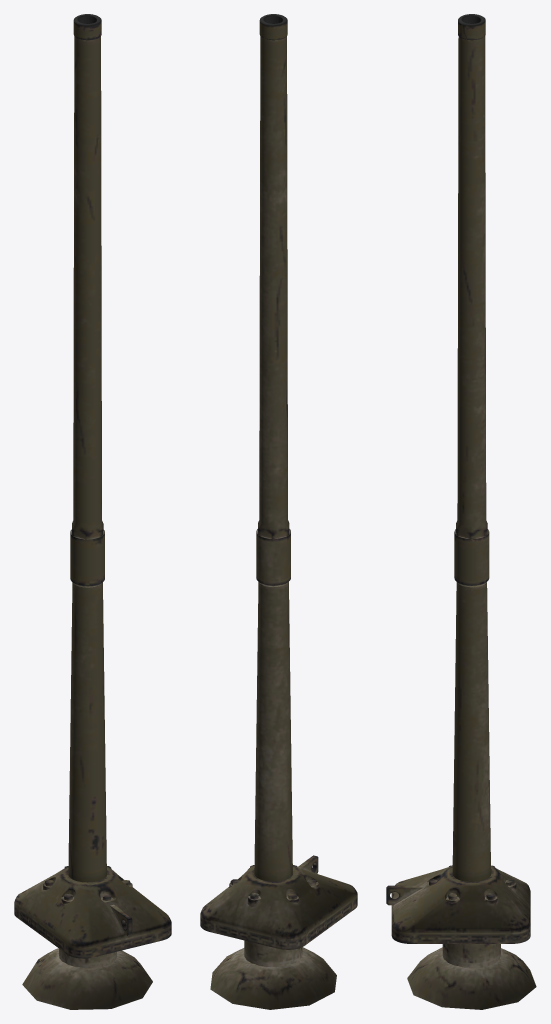
File: Gun_02.glb
3 views of the same model, side by side, from view 1: azimuth 30°, elevation 25°; view 2: azimuth 150°, elevation 25°; view 3: azimuth 270°, elevation 25° (orthographic).
Parts seen in each view (by area): view 1: set_0_group_0; view 2: set_0_group_0; view 3: set_0_group_0.
Boxes of the visible parts, x1,y1,x2,y2 form: set_0_group_0: (14,14,171,1009); set_0_group_0: (200,14,357,1009); set_0_group_0: (386,14,536,1009).
Size of the model in its own units: 0.6711 by 5.51 by 0.7784.
Materials: 1 (1 with a texture image).
